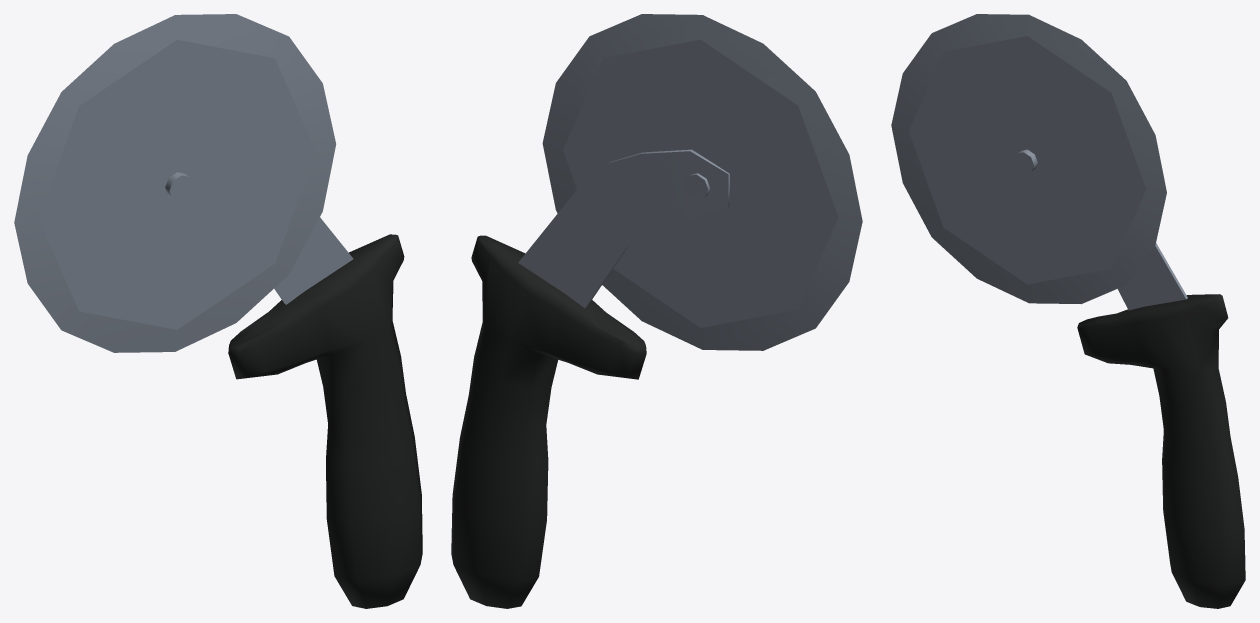
The model's file is Pizza_Cutter.glb.
3 renders of one model, left to right at view 1: azimuth 30°, elevation 25°; view 2: azimuth 150°, elevation 25°; view 3: azimuth 330°, elevation 25°, orthographic. The views are drawn at different scales.
Parts seen in each view (by area): view 1: cutensils_pizza_cutter_Cylinder.033; view 2: cutensils_pizza_cutter_Cylinder.033; view 3: cutensils_pizza_cutter_Cylinder.033.
Boxes of the visible parts, left/top/right/bottom form: cutensils_pizza_cutter_Cylinder.033: left=14, top=14, right=422, bottom=608; cutensils_pizza_cutter_Cylinder.033: left=451, top=14, right=862, bottom=608; cutensils_pizza_cutter_Cylinder.033: left=891, top=14, right=1245, bottom=608.
Bounding box in the file's own units: 4.53 × 6.71 × 0.6286.
1 material, 1 textured.
